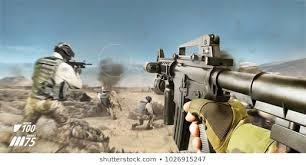Gun: (134, 35, 245, 114), (67, 55, 94, 70)
